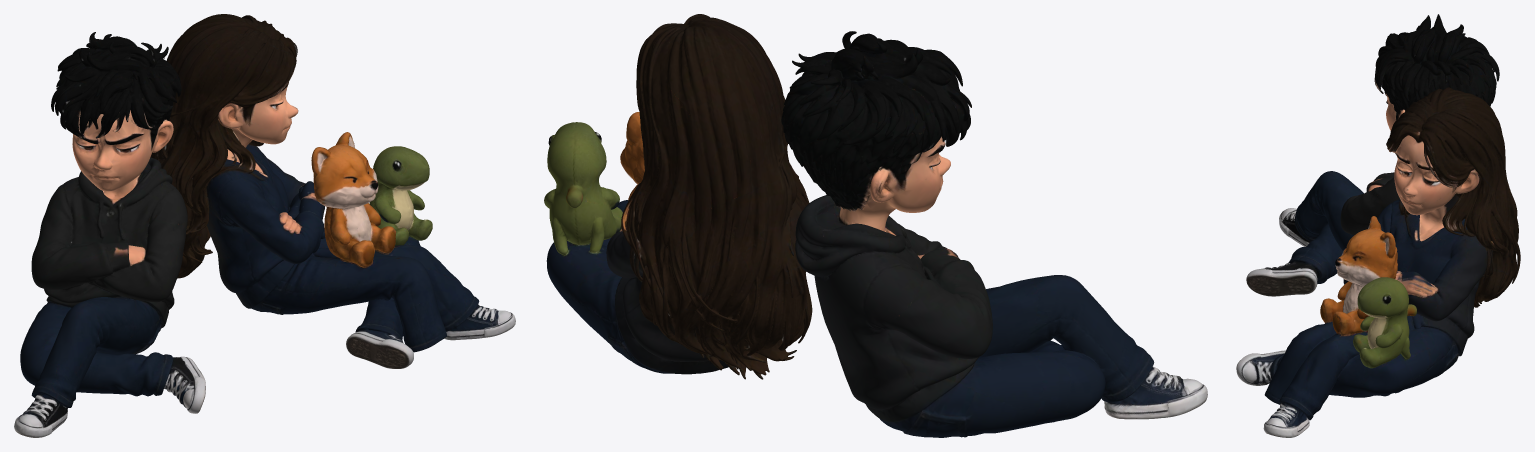
3 renders of one model, left to right at view 1: azimuth 30°, elevation 25°; view 2: azimuth 150°, elevation 25°; view 3: azimuth 270°, elevation 25°, orthographic. The views are drawn at different scales.
Parts seen in each view (by area): view 1: mesh_node; view 2: mesh_node; view 3: mesh_node.
Part boxes in pixels (box(x1,y1,x2,y2)): mesh_node: box(14, 14, 515, 437); mesh_node: box(544, 14, 1207, 437); mesh_node: box(1236, 14, 1520, 437).
Size of the model in its own units: 1.9 by 1.14 by 1.05.
1 material, 1 textured.
